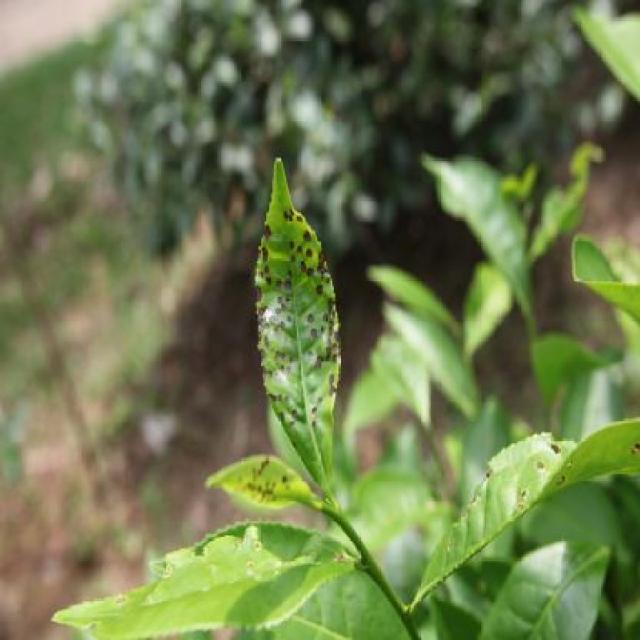Tea Mosquito bug infested leaf: (234, 149, 343, 503)
